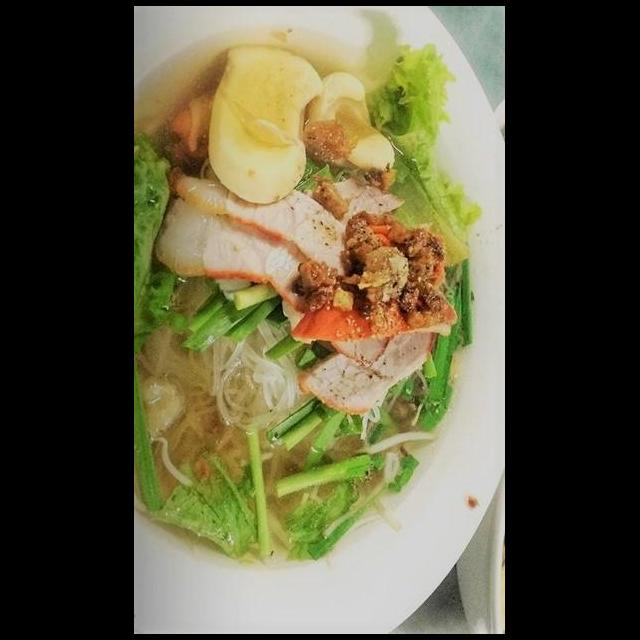banh hu tieu: (136, 269, 316, 491)
hu tieu: (140, 40, 505, 634)
thit heo: (168, 157, 366, 284), (147, 188, 320, 310), (294, 295, 442, 418)
